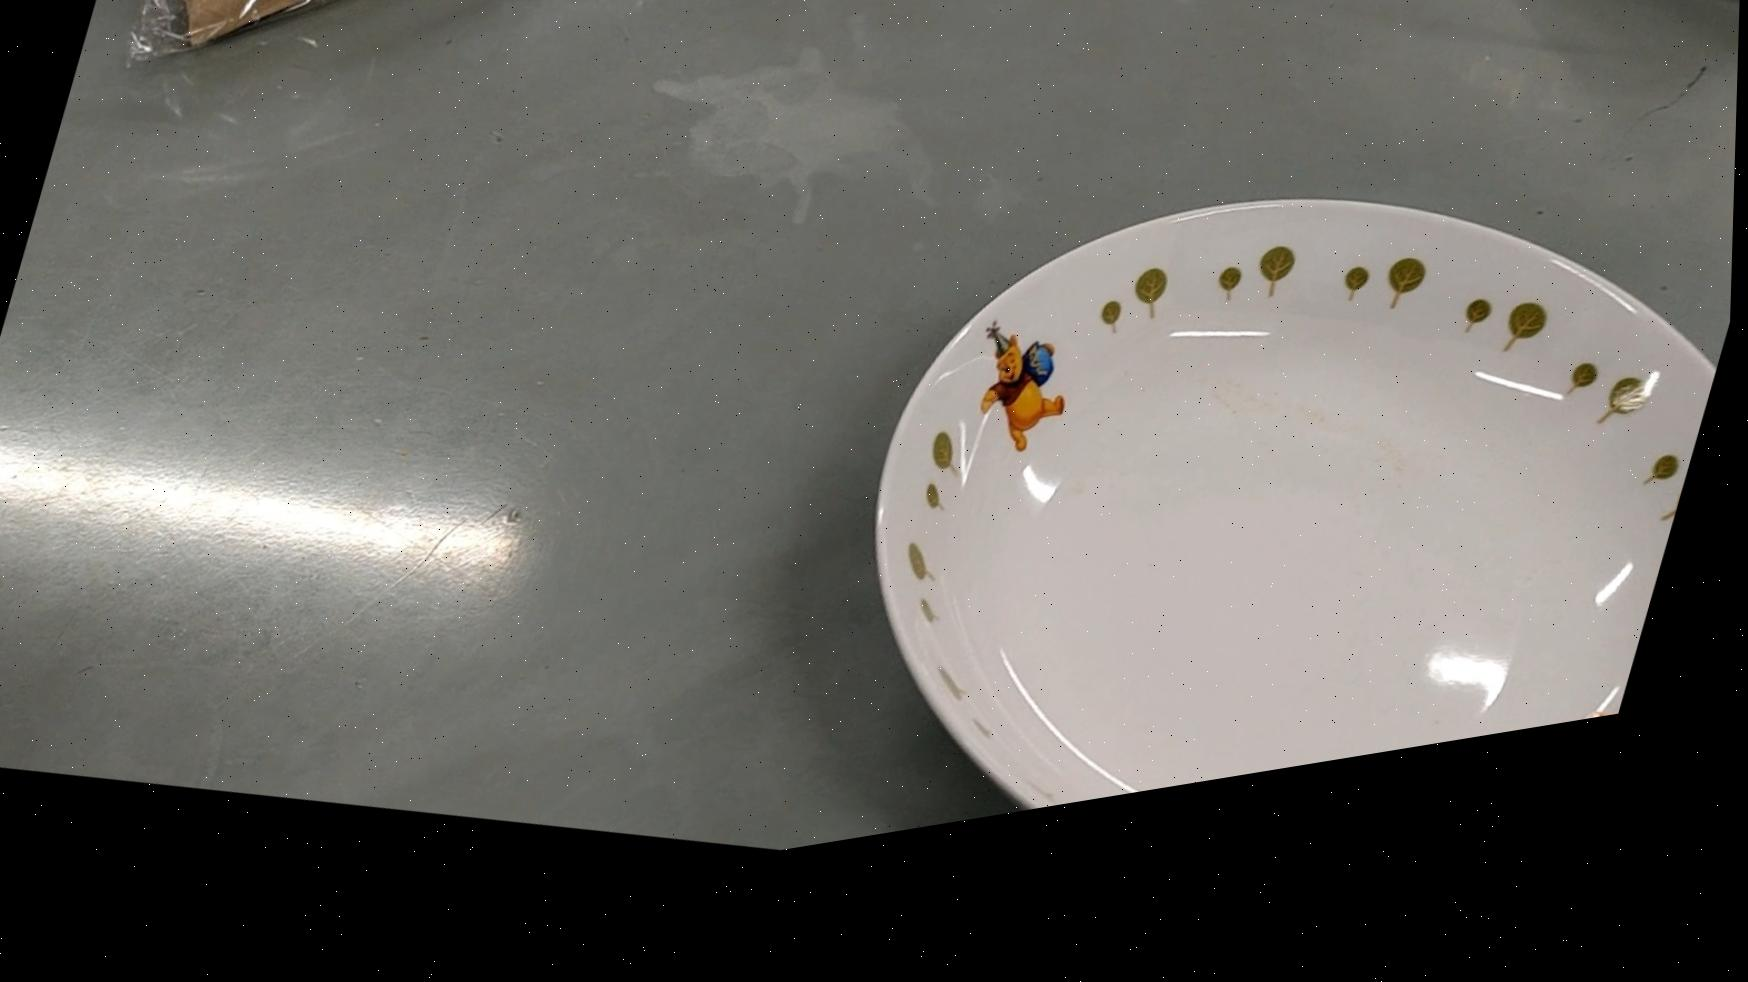plate: (780, 91, 1741, 879)
